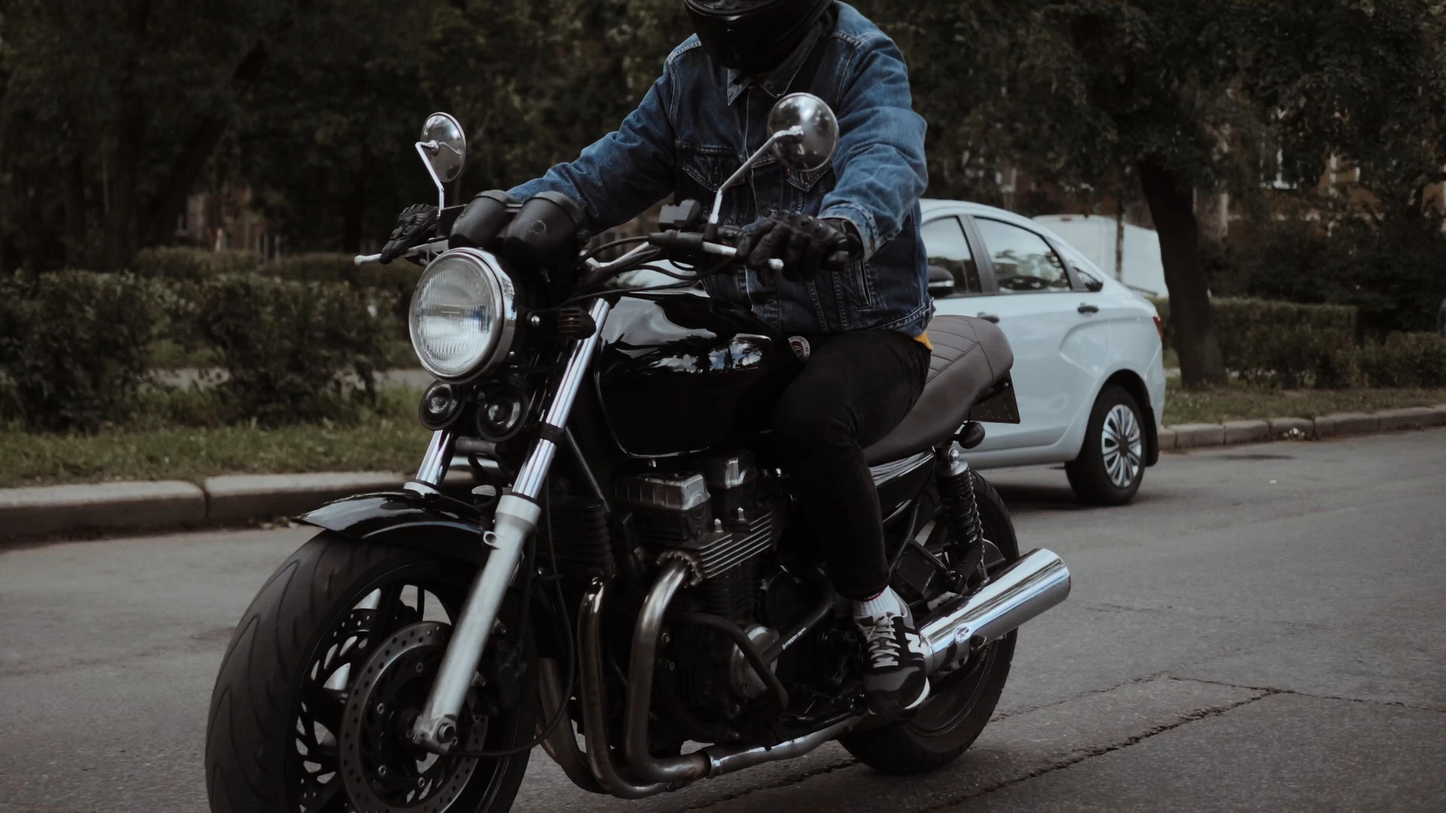driver: (211, 0, 1073, 813)
